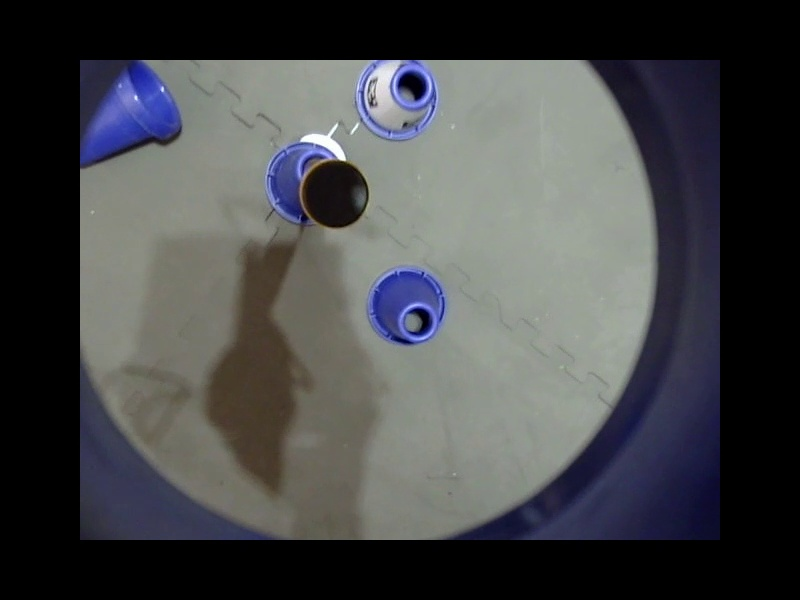tip: (412, 319, 525, 434)
